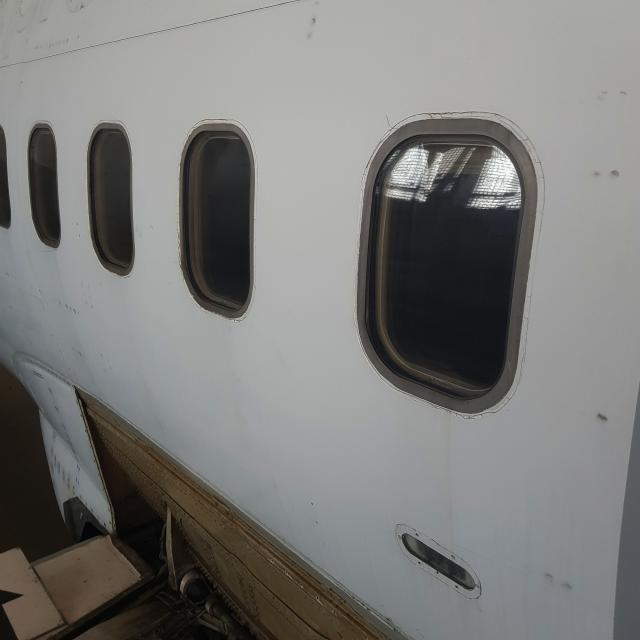crack: (381, 112, 402, 131)
